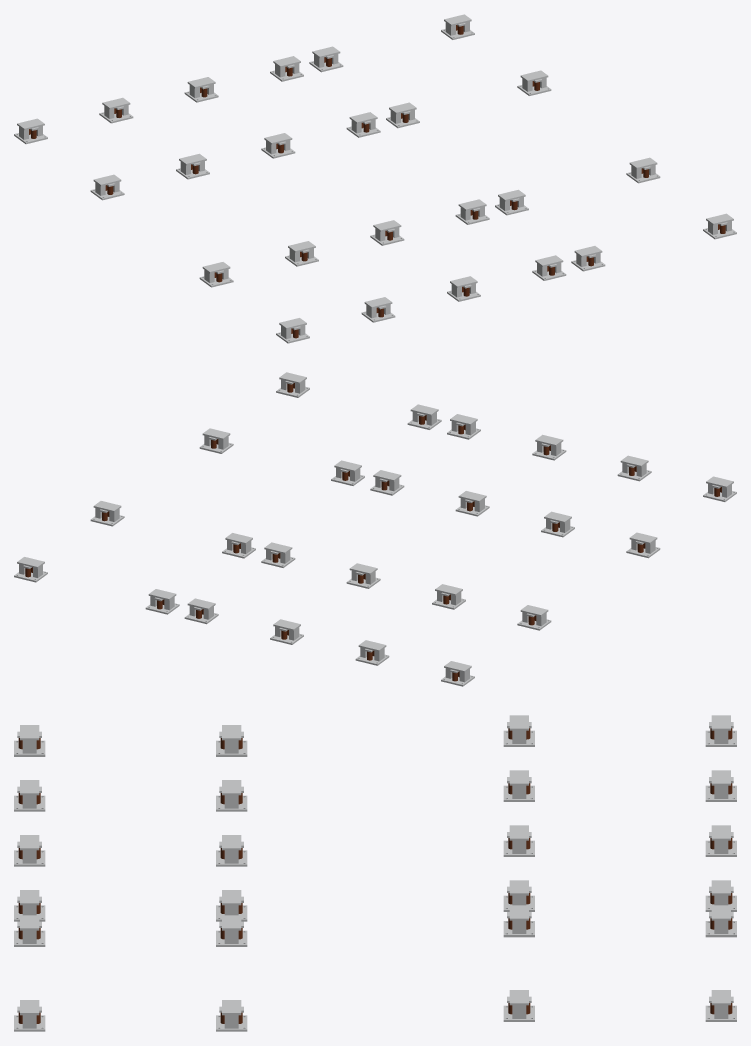
Rendered from 8_發電機組用避震基座.glb.
3 renders of one model, top to bottom at view 1: azimuth 30°, elevation 25°; view 2: azimuth 150°, elevation 25°; view 3: azimuth 270°, elevation 25°, orthographic. The views are drawn at different scales.
Parts seen in each view (by area): view 1: 2000REOZM-避震器 13CM 2000REOZM-避震器 13CM [1288686], 2000REOZM-避震器 13CM 2000REOZM-避震器 13CM [1278555]; view 2: 2000REOZM-避震器 13CM 2000REOZM-避震器 13CM [1288686], 2000REOZM-避震器 13CM 2000REOZM-避震器 13CM [1278555]; view 3: 2000REOZM-避震器 13CM 2000REOZM-避震器 13CM [1288686], 2000REOZM-避震器 13CM 2000REOZM-避震器 13CM [1278555].
Boxes of the visible parts, left/top/right/bottom form: 2000REOZM-避震器 13CM 2000REOZM-避震器 13CM [1288686]: left=14, top=14, right=551, bottom=200; 2000REOZM-避震器 13CM 2000REOZM-避震器 13CM [1278555]: left=199, top=157, right=736, bottom=343; 2000REOZM-避震器 13CM 2000REOZM-避震器 13CM [1288686]: left=14, top=501, right=551, bottom=686; 2000REOZM-避震器 13CM 2000REOZM-避震器 13CM [1278555]: left=199, top=372, right=736, bottom=558; 2000REOZM-避震器 13CM 2000REOZM-避震器 13CM [1288686]: left=503, top=715, right=736, bottom=1021; 2000REOZM-避震器 13CM 2000REOZM-避震器 13CM [1278555]: left=14, top=725, right=247, bottom=1031.
Size of the model in its own units: 4.47 by 0.2003 by 4.72.
